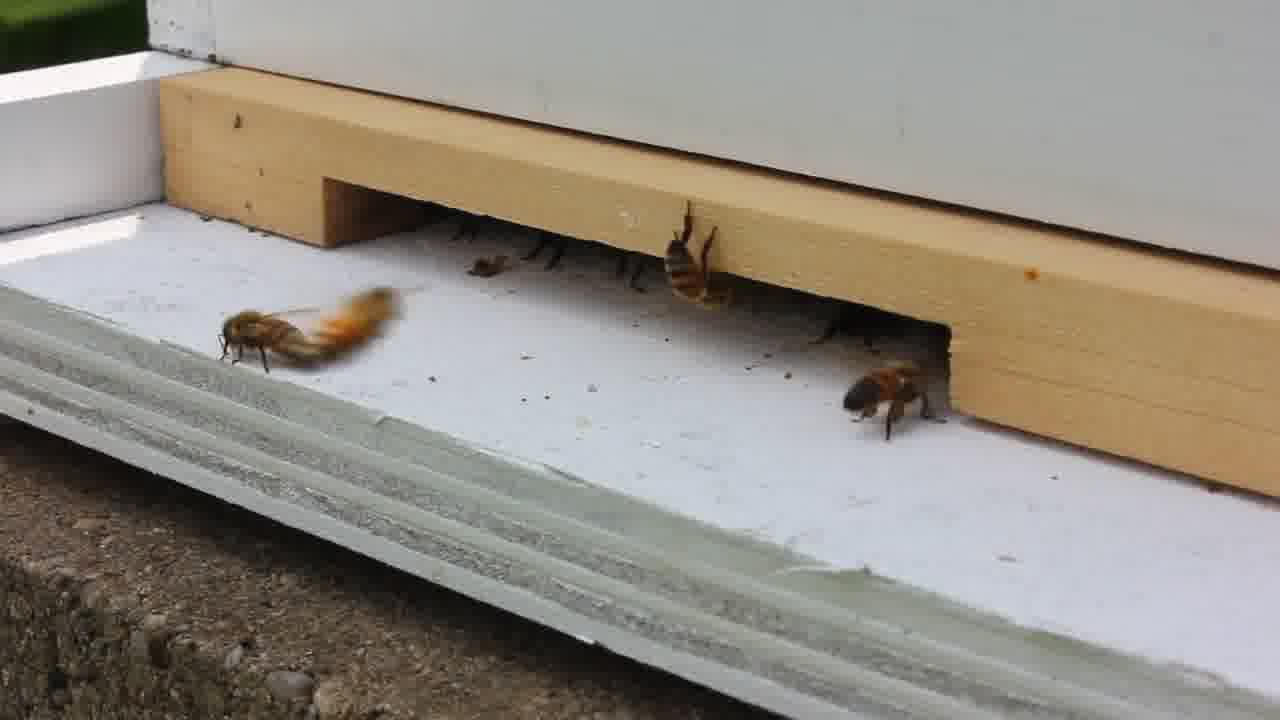pollen: (836, 353, 942, 440)
